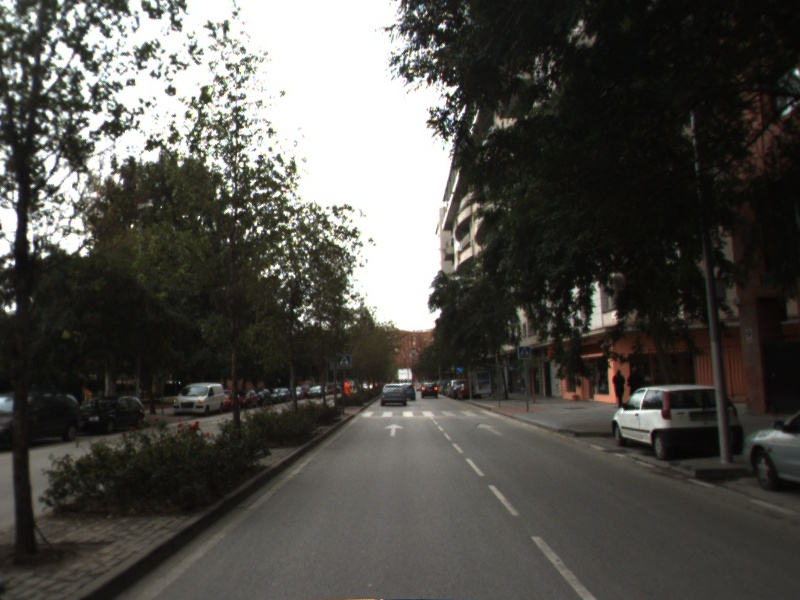STRAIGHT: (474, 421, 506, 438), (382, 422, 406, 438)
